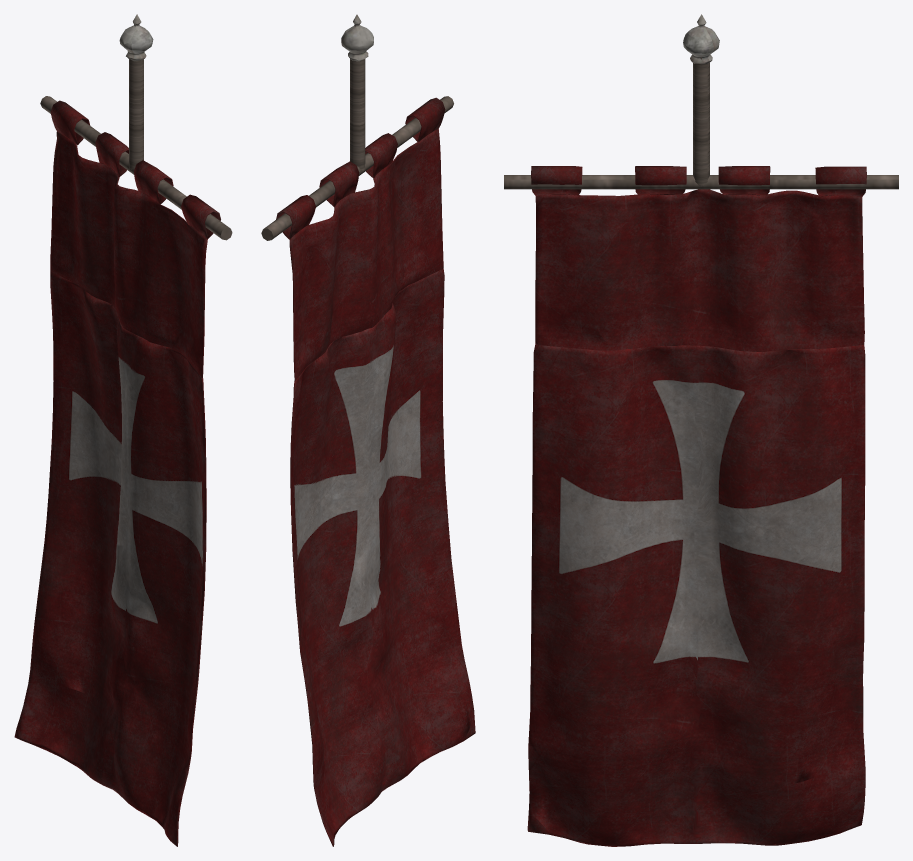
Rendered from Flag_A_Short_001.fbx.
The picture shows the model from 3 angles, left to right: view 1: azimuth 30°, elevation 25°; view 2: azimuth 150°, elevation 25°; view 3: azimuth 270°, elevation 25°; orthographic projection. The views are drawn at different scales.
Visible parts, largest first — view 1: Flag_A_Short_001; view 2: Flag_A_Short_001; view 3: Flag_A_Short_001.
Boxes of the visible parts, left/top/right/bottom form: Flag_A_Short_001: left=14, top=14, right=232, bottom=846; Flag_A_Short_001: left=261, top=14, right=475, bottom=846; Flag_A_Short_001: left=504, top=14, right=898, bottom=846.
Size of the model in its own units: 29.5 by 344 by 146.
Materials: 1 (1 with a texture image).
